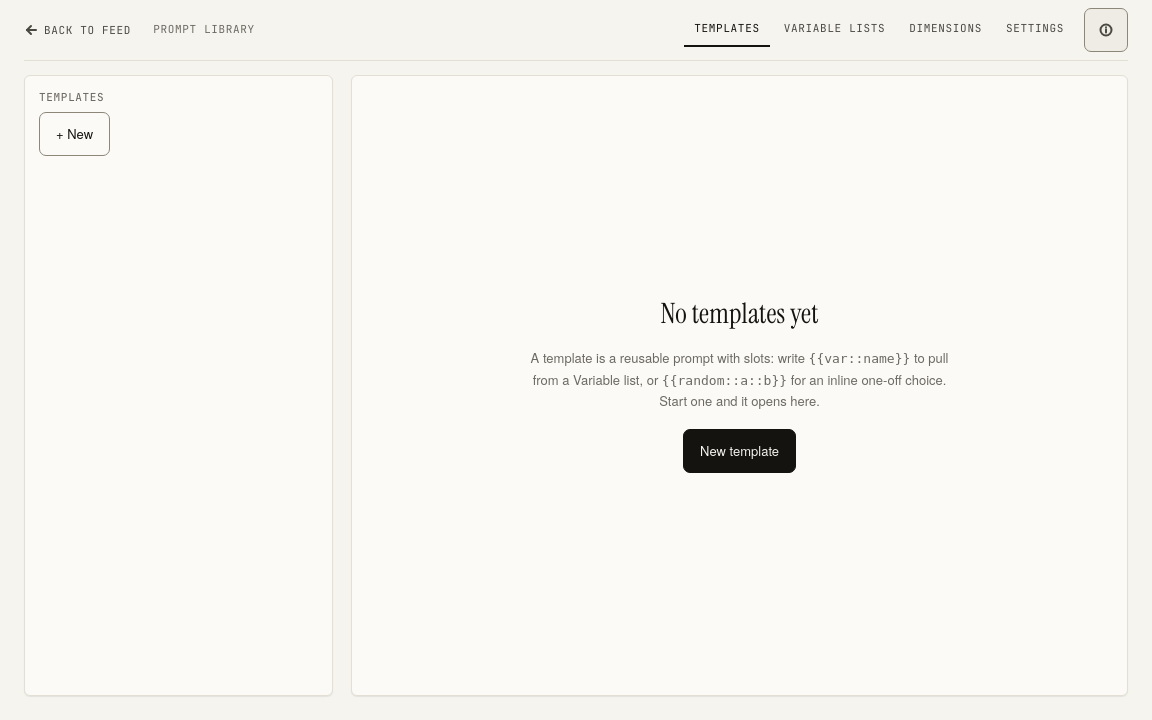
it: PromptManager › empty templates show an editor action that starts inline creation in the rail
Expected: the heading "No templates yet" is shown, [660, 298, 819, 330]
Expected: the text "A template is a reusable prompt with slots" is shown, [531, 348, 809, 367]
Click the button "New template" at (740, 451), box [683, 429, 796, 473]
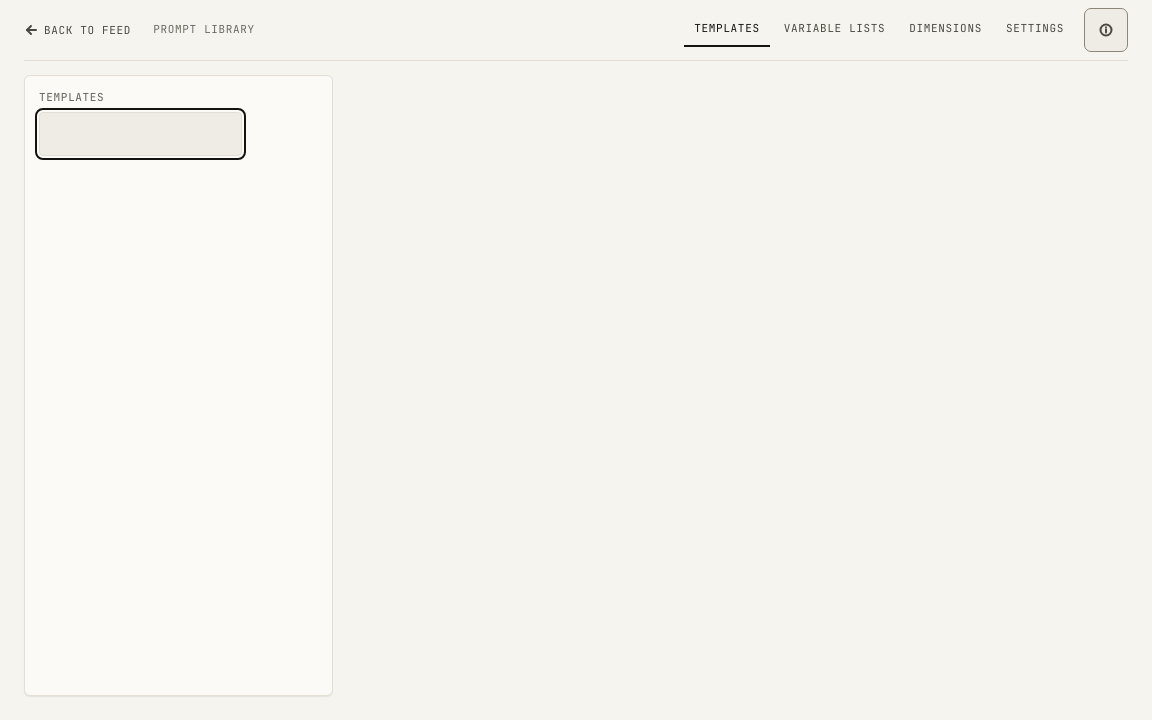
Now the button "+ New" is gone
Now the heading "No templates yet" is gone
